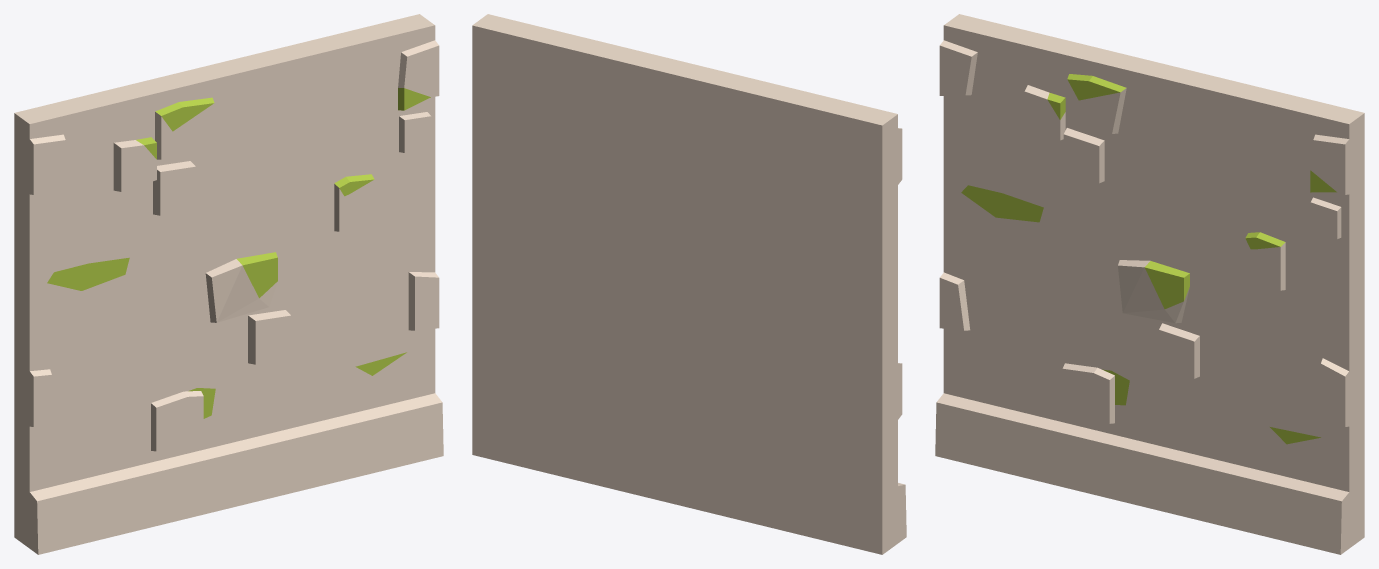
File: empire-stone-wall-3x3-moss-rim-empire.glb
The picture shows the model from 3 angles, left to right: view 1: azimuth 30°, elevation 25°; view 2: azimuth 150°, elevation 25°; view 3: azimuth 330°, elevation 25°; orthographic projection.
Parts seen in each view (by area): view 1: SM_Stone_Wall_3x3_Moss_Rim_Empire; view 2: SM_Stone_Wall_3x3_Moss_Rim_Empire; view 3: SM_Stone_Wall_3x3_Moss_Rim_Empire.
Boxes of the visible parts, x1,y1,x2,y2 form: SM_Stone_Wall_3x3_Moss_Rim_Empire: (14, 14, 443, 554); SM_Stone_Wall_3x3_Moss_Rim_Empire: (472, 14, 906, 554); SM_Stone_Wall_3x3_Moss_Rim_Empire: (935, 14, 1364, 554).
Bounding box in the file's own units: 3 × 3 × 0.3082.
